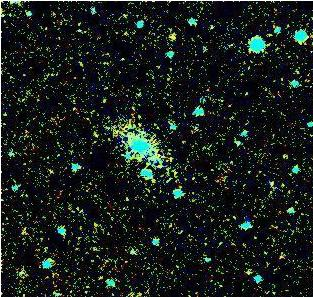star: (156, 15, 186, 45)
